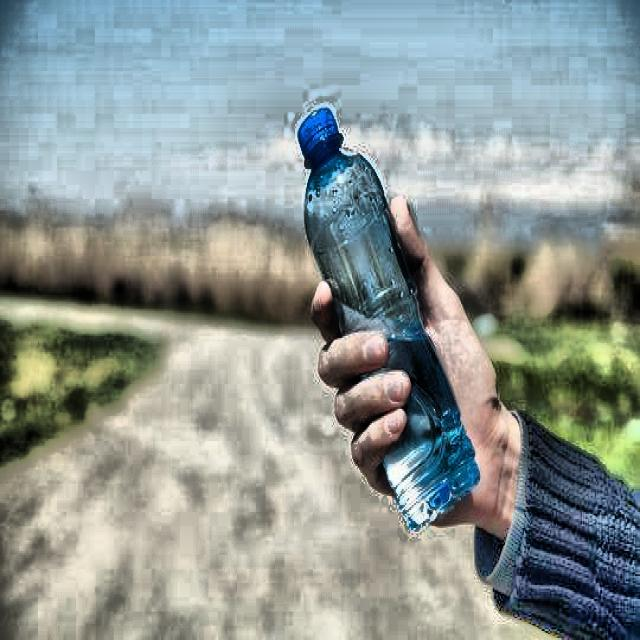Bottles: (296, 105, 482, 542)
